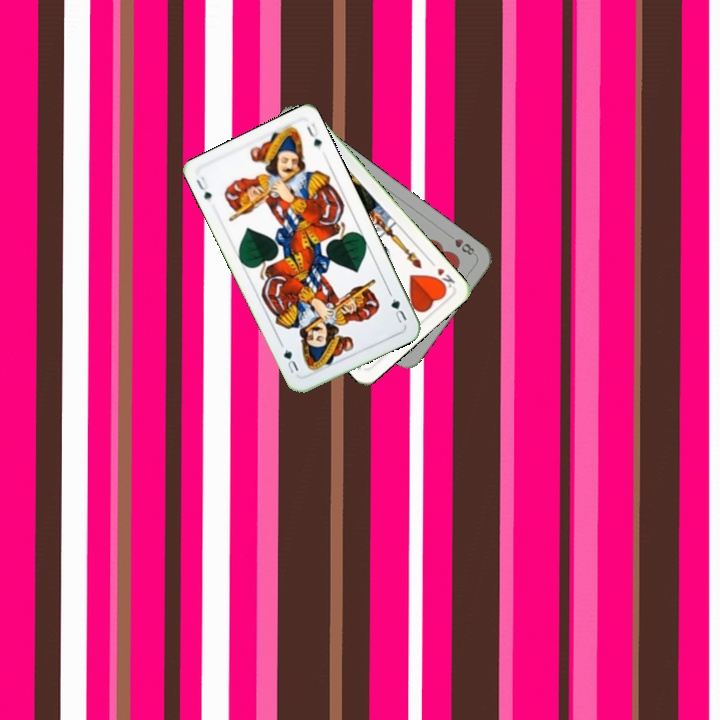GU: (385, 289, 409, 326), (192, 172, 214, 203)
H8: (451, 234, 477, 258)
HK: (425, 256, 458, 294)
